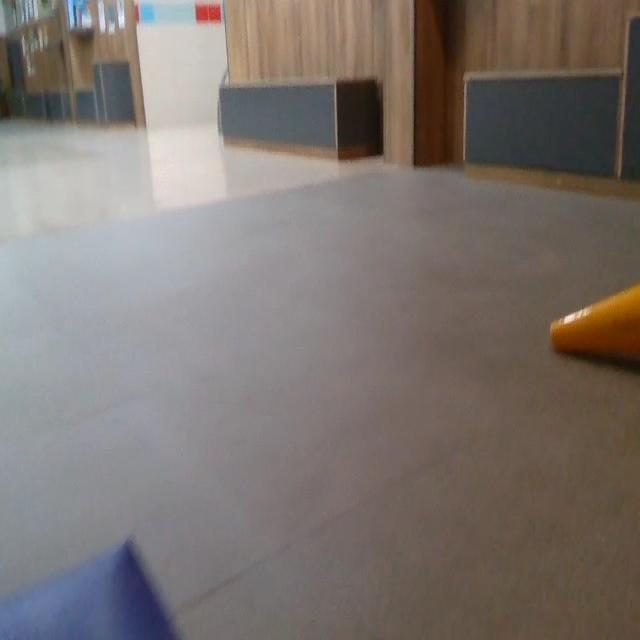cone: (549, 280, 640, 370)
cube: (0, 535, 177, 640)
